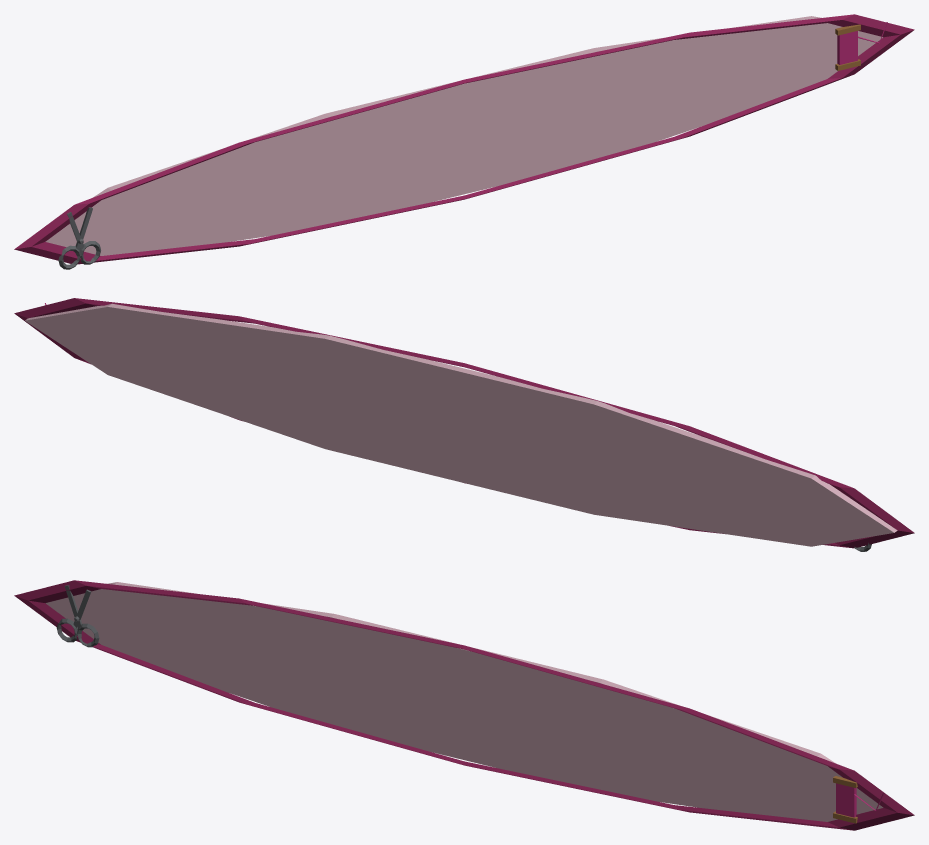
The model's file is bang_tiem_may_hong_nhung_60.glb.
The picture shows the model from 3 angles, top to bottom: view 1: azimuth 30°, elevation 25°; view 2: azimuth 150°, elevation 25°; view 3: azimuth 330°, elevation 25°; orthographic projection.
Parts seen in each view (by area): view 1: bang_tiem_may_hong_nhung_60; view 2: bang_tiem_may_hong_nhung_60; view 3: bang_tiem_may_hong_nhung_60.
Part boxes in pixels (left/top/right/bottom): bang_tiem_may_hong_nhung_60: left=14, top=14, right=914, bottom=269; bang_tiem_may_hong_nhung_60: left=14, top=298, right=914, bottom=551; bang_tiem_may_hong_nhung_60: left=14, top=580, right=914, bottom=830.
Bounding box in the file's own units: 5.85 × 0.7459 × 0.0925.
